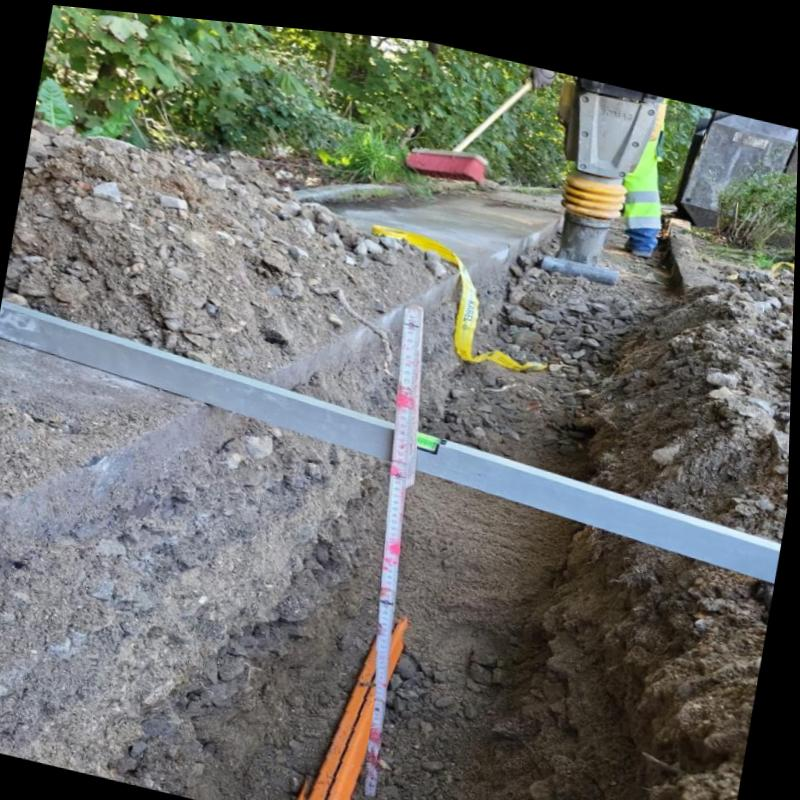Orang-Speednetrohrchen: (311, 633, 380, 800)
